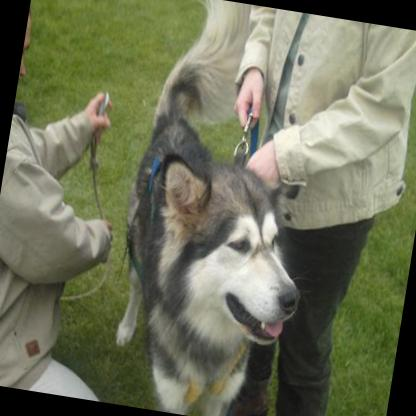Eskimo_dog: (97, 0, 342, 416)
